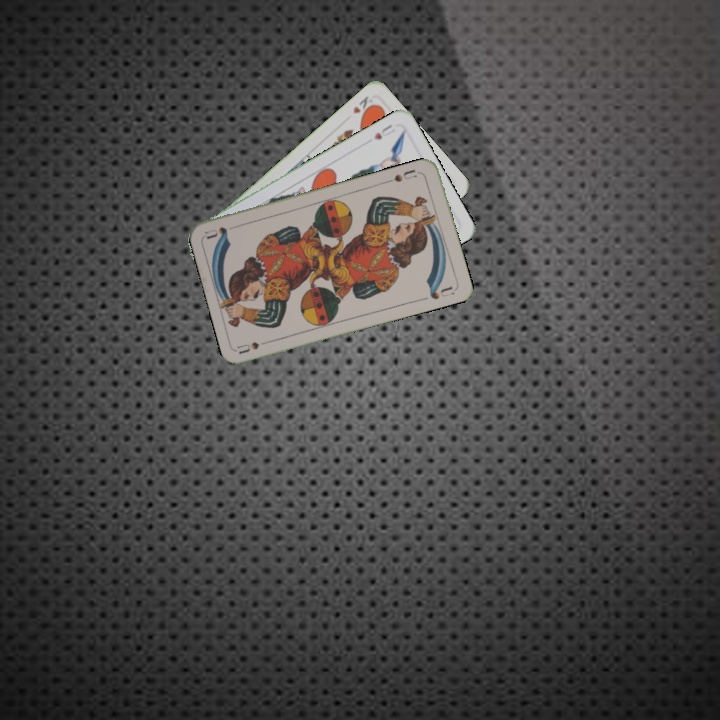HK: (349, 92, 378, 119)
HU: (369, 120, 398, 142)
SU: (235, 336, 275, 356), (390, 165, 419, 185)
